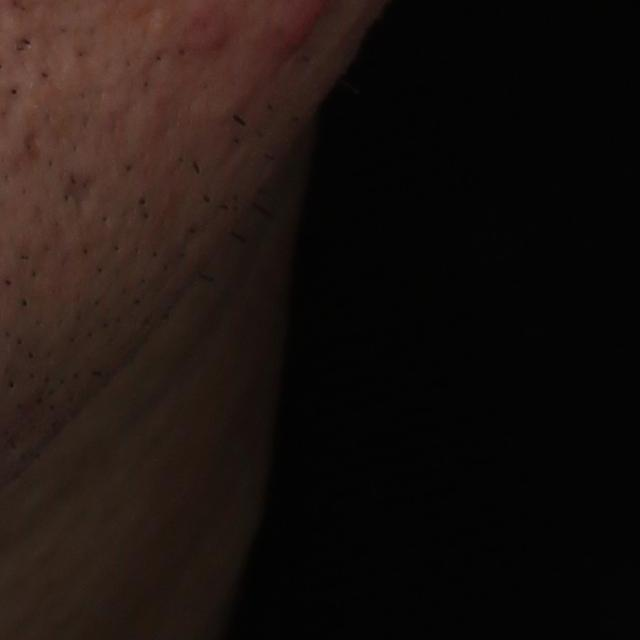atrophic_scar: (63, 165, 94, 221)
papule: (181, 18, 245, 60)
